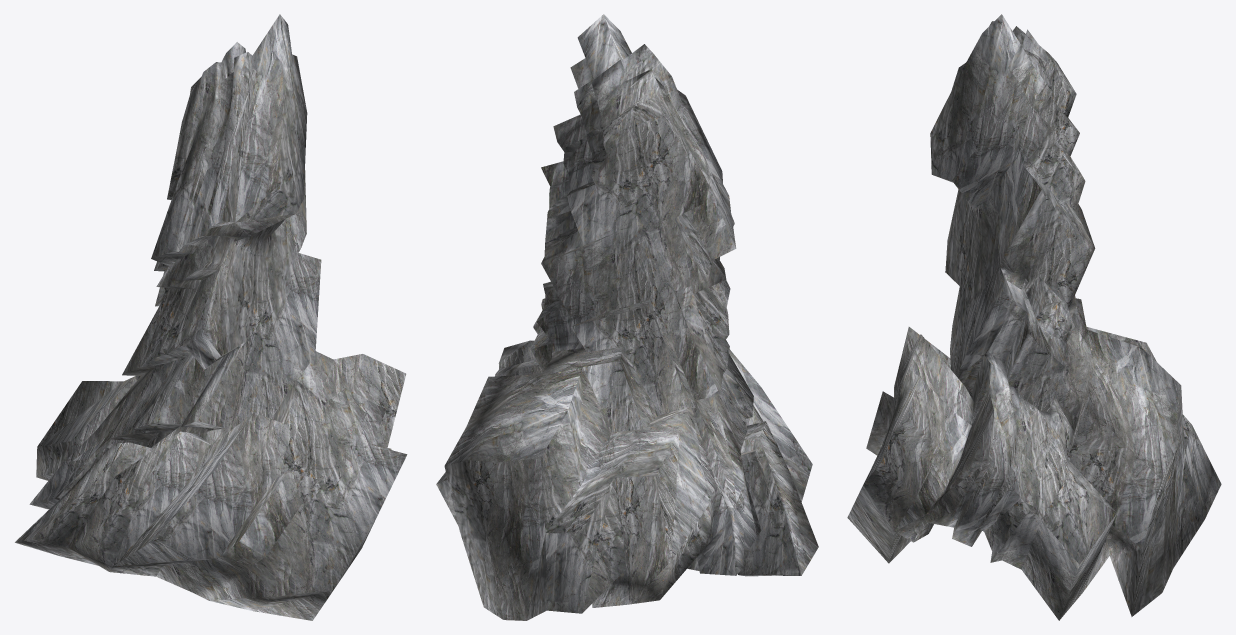
The model's file is point_021.dae.
3 renders of one model, left to right at view 1: azimuth 30°, elevation 25°; view 2: azimuth 150°, elevation 25°; view 3: azimuth 270°, elevation 25°, orthographic. The views are drawn at different scales.
Visible parts, largest first — view 1: rock0; view 2: rock0; view 3: rock0.
Boxes of the visible parts, bbox=[...] form: rock0: bbox=[15, 14, 407, 620]; rock0: bbox=[436, 14, 818, 620]; rock0: bbox=[847, 14, 1221, 620].
Bounding box in the file's own units: 2.58 × 2.28 × 3.86.
